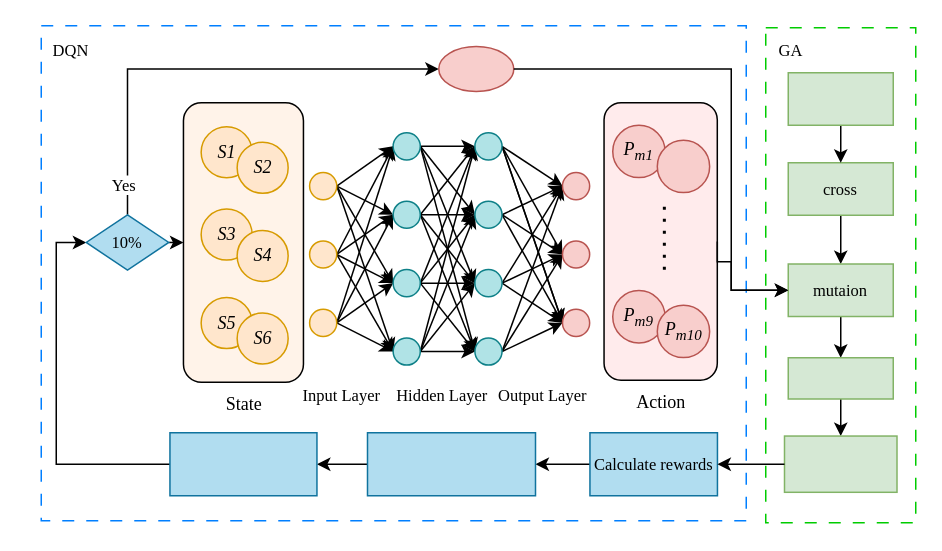
The diagram is 942 pixels wide and 551 high, and some of its shapes have lost their labels. The centre of each missing label's shape, as x and y in pixels:
"New population" belongs at pixel 840 463.
"P m = 0.2" belongs at pixel 475 68.
"P m2" belongs at pixel 683 166.
"select" belongs at pixel 840 98.
"Storing experience into DQN memory bank" belongs at pixel 451 463.
"Training DQN" belongs at pixel 242 463.
"VNS" belongs at pixel 840 377.
